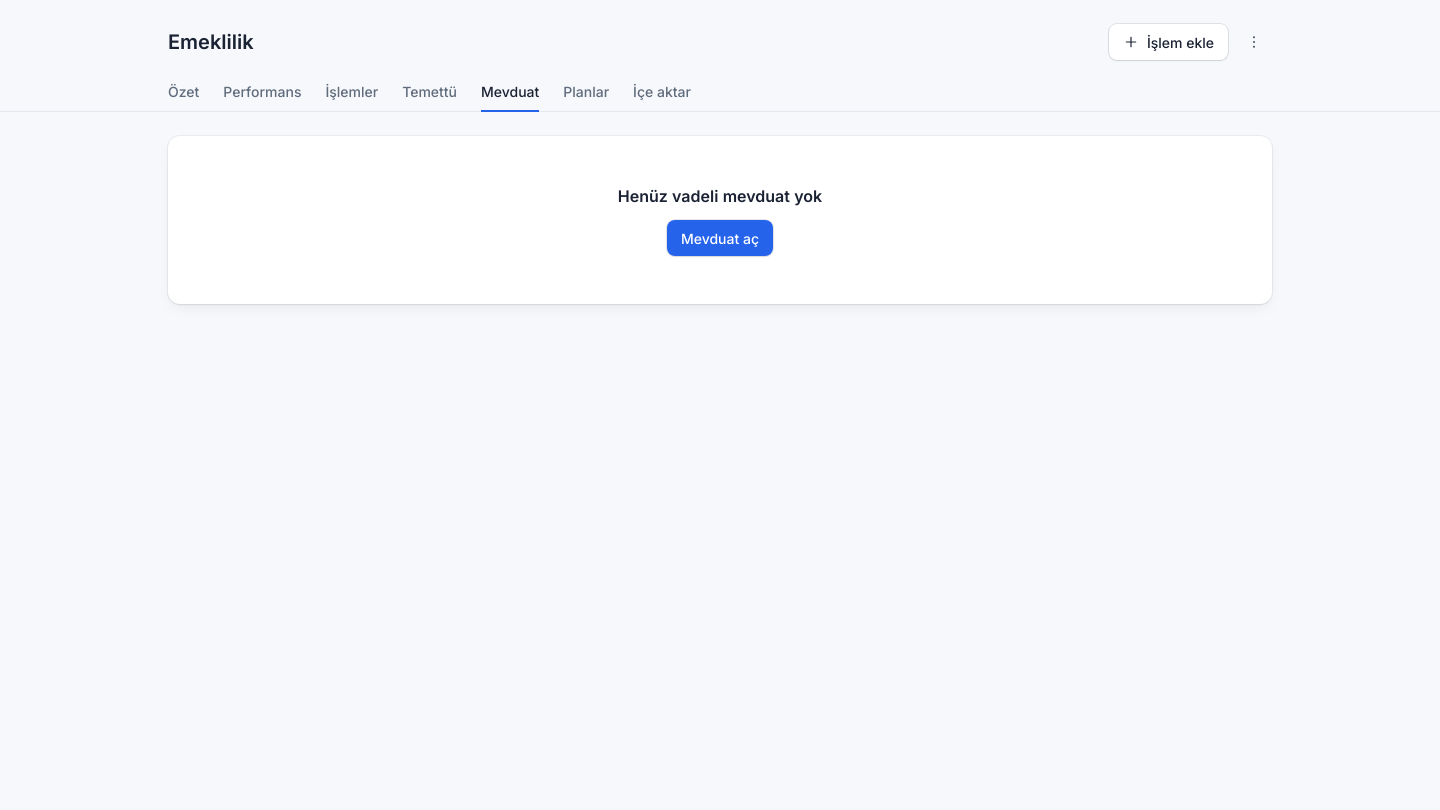
offers to open the first deposit when there is none
This screenshot has width=1440, height=810.
Expected: the text "Henüz vadeli mevduat yok" is shown, [618, 184, 822, 208]
Click the button "Mevduat aç" at (720, 238), box [667, 220, 773, 256]
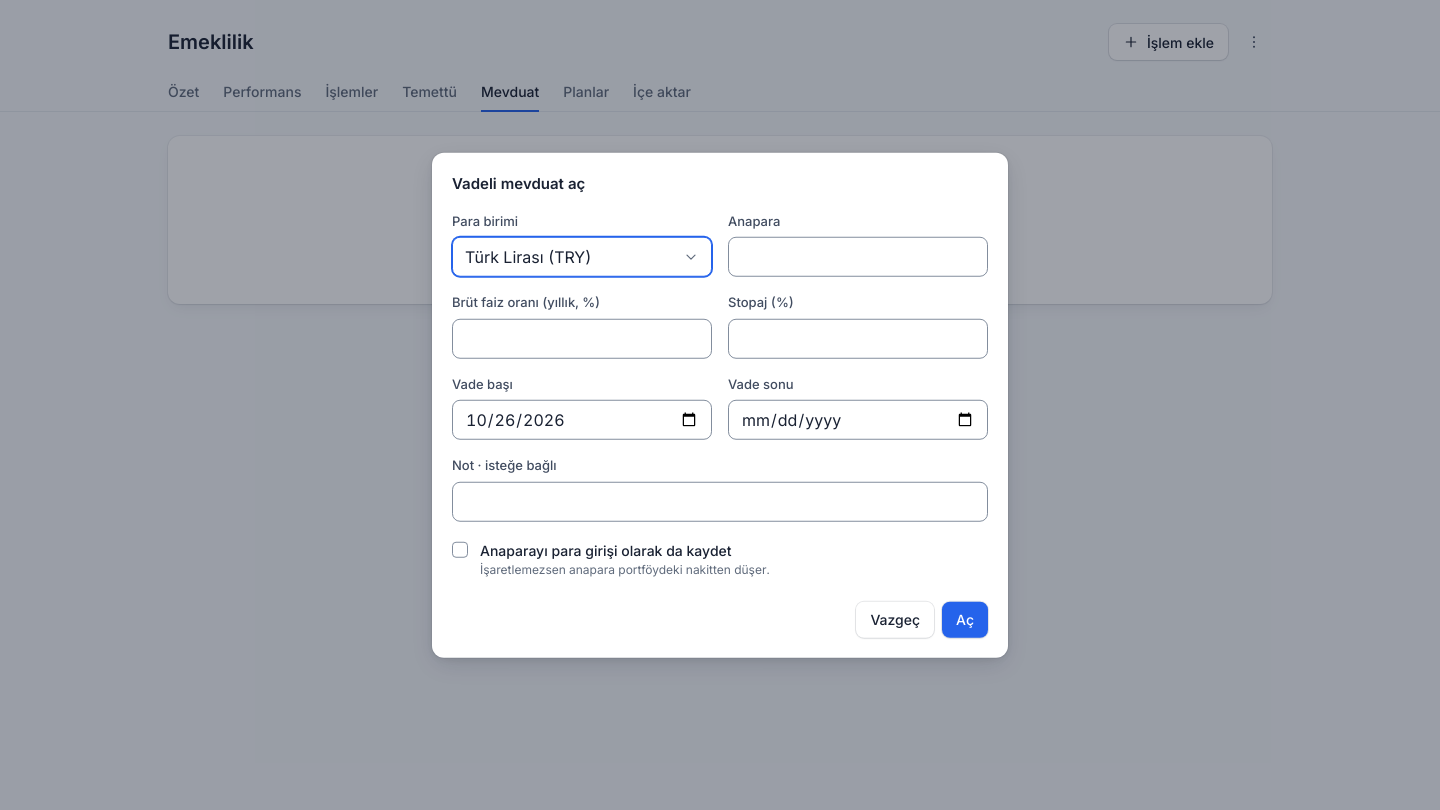
Now the dialog "Vadeli mevduat aç" is shown, box [432, 153, 1008, 657]
